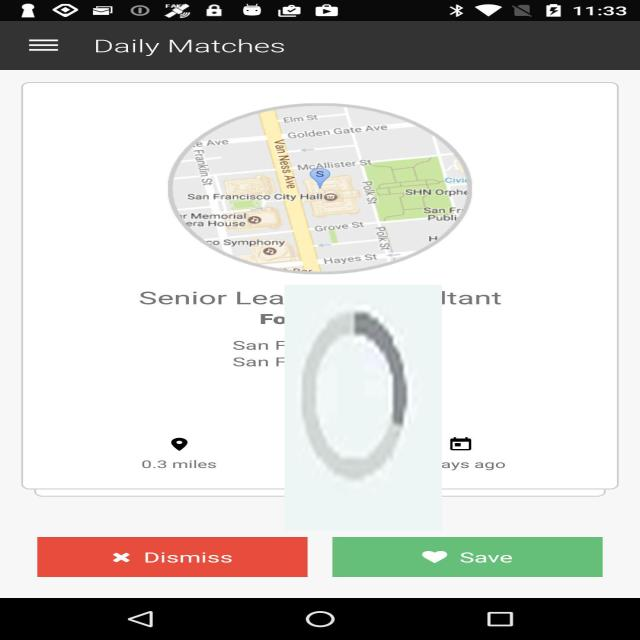misdirection: (285, 285, 442, 531)
